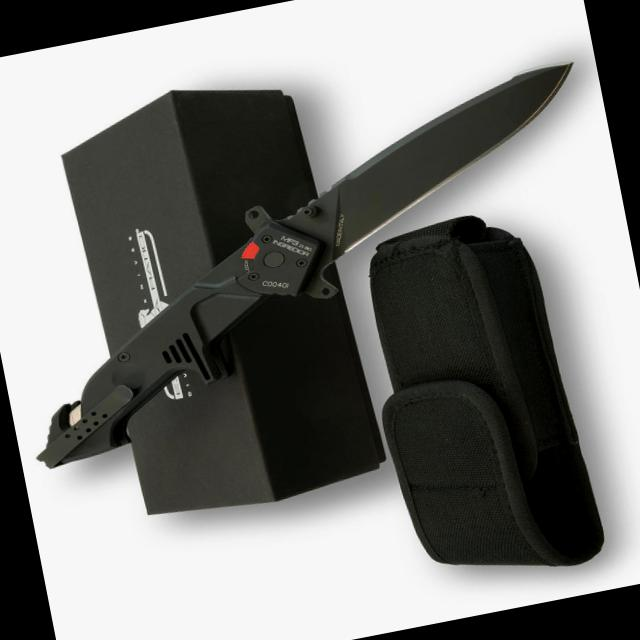knife: (241, 50, 613, 281)
